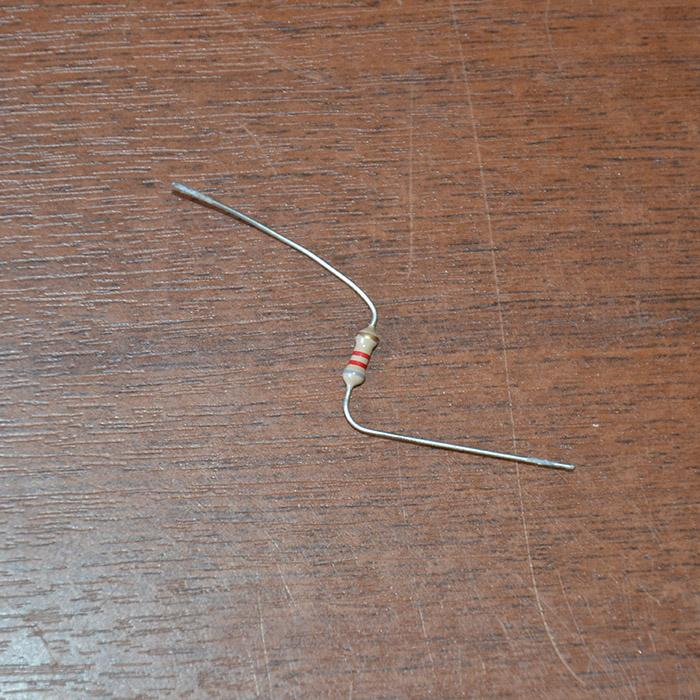resistor: (341, 328, 378, 389)
